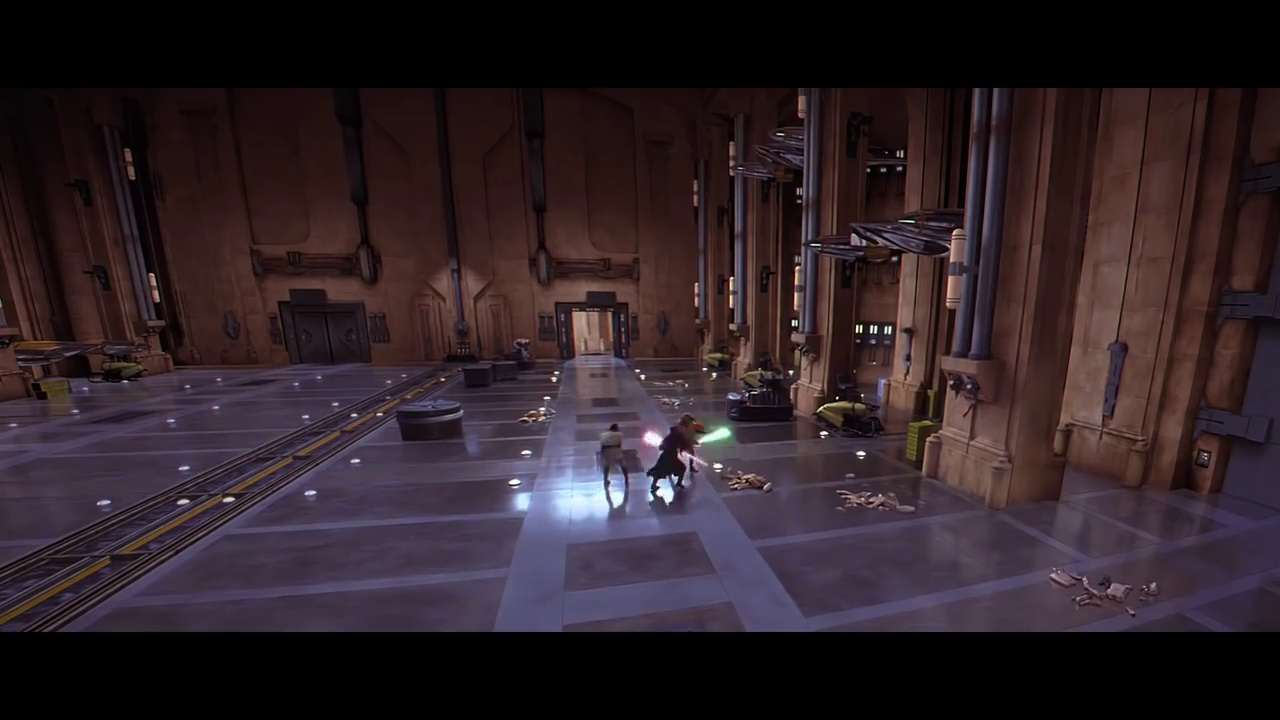lightsaber: (694, 423, 735, 445), (639, 430, 666, 447)
